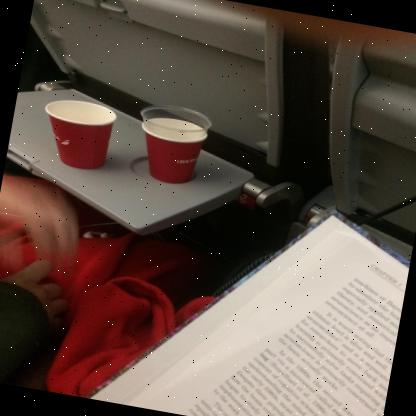Disposable plastic cup: (140, 105, 212, 140)
Paper cup: (45, 100, 116, 169), (142, 118, 207, 183)
